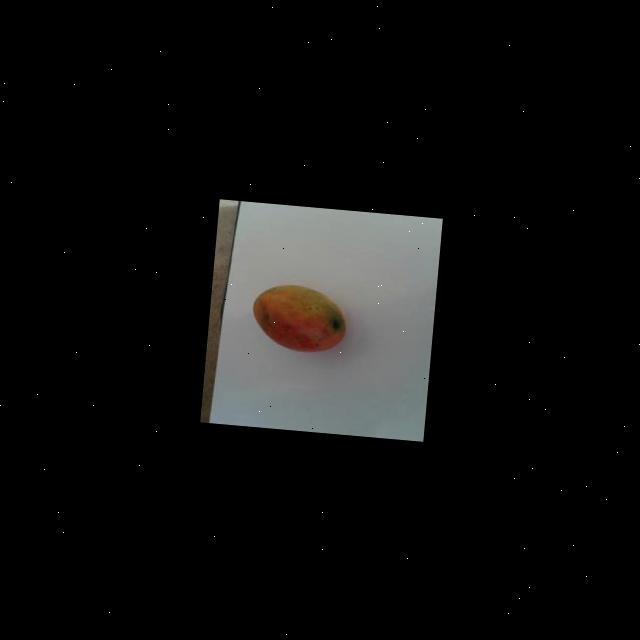Mango: (246, 282, 348, 355)
